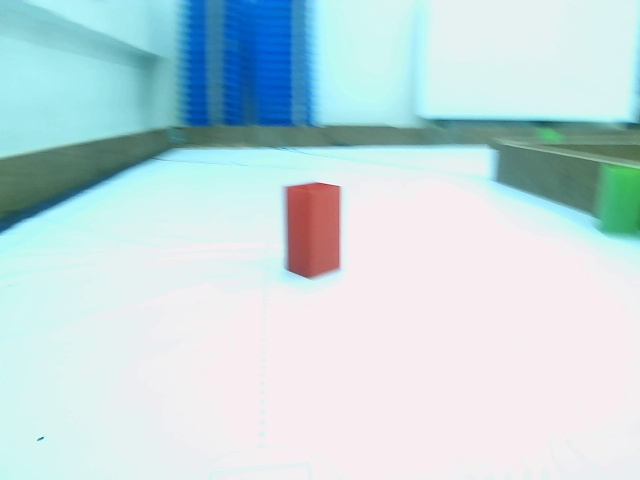red: (289, 183, 342, 275)
